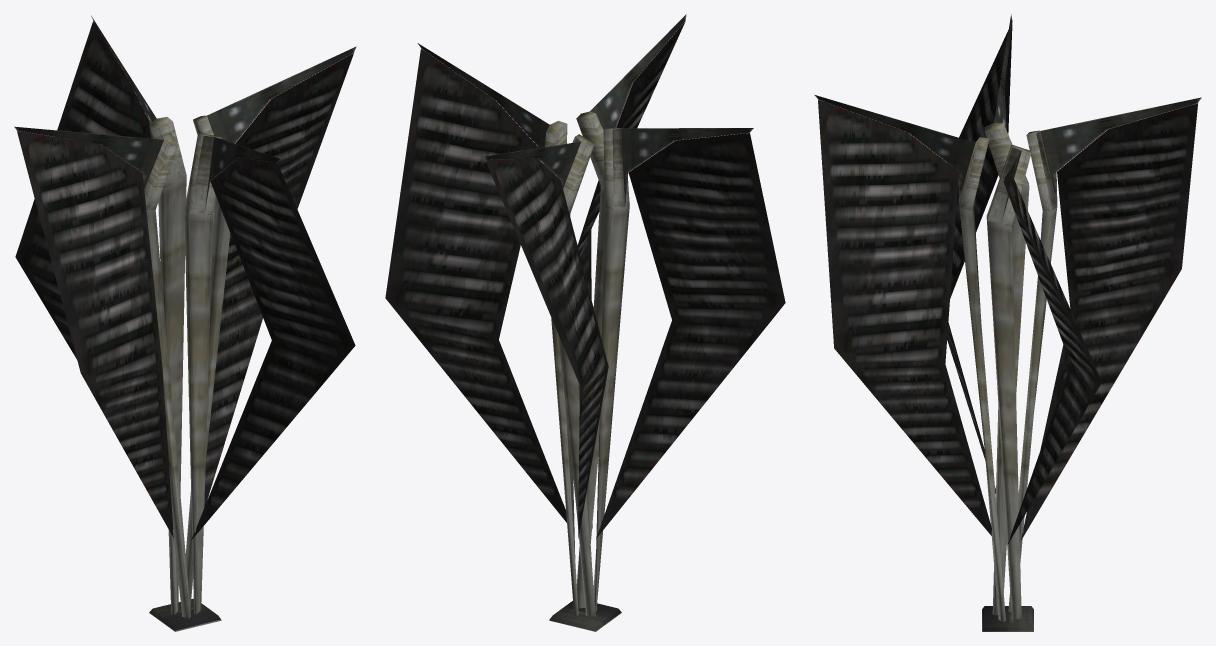
File: ins_all_pow_wind_u0_sails_l3.fbx
The picture shows the model from 3 angles, left to right: view 1: azimuth 30°, elevation 25°; view 2: azimuth 150°, elevation 25°; view 3: azimuth 270°, elevation 25°; orthographic projection.
Visible parts, largest first — view 1: mesh_node; view 2: mesh_node; view 3: mesh_node.
Boxes of the visible parts, x1,y1,x2,y2 form: mesh_node: (14,15,356,631); mesh_node: (385,14,785,631); mesh_node: (814,14,1201,631).
Size of the model in its own units: 5.61 by 8.37 by 5.61.
2 materials, 2 textured.
